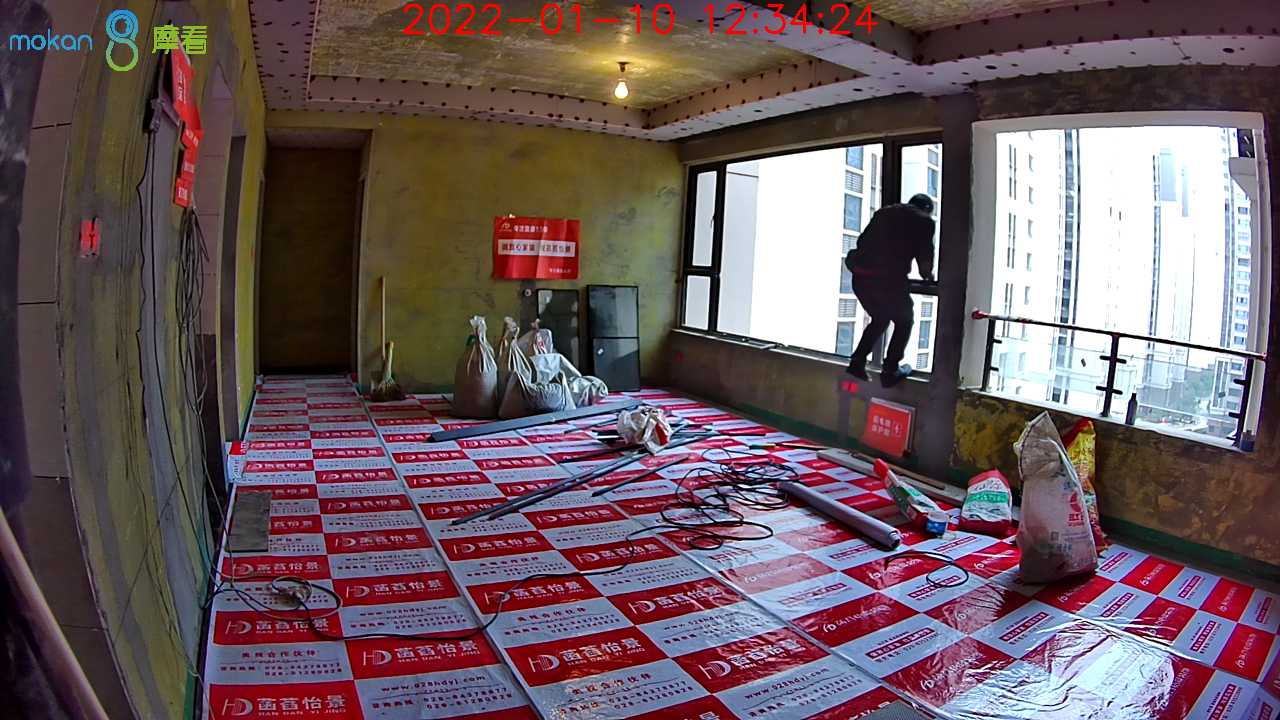people: (844, 191, 936, 387)
window: (995, 132, 1259, 447), (677, 133, 936, 382)
